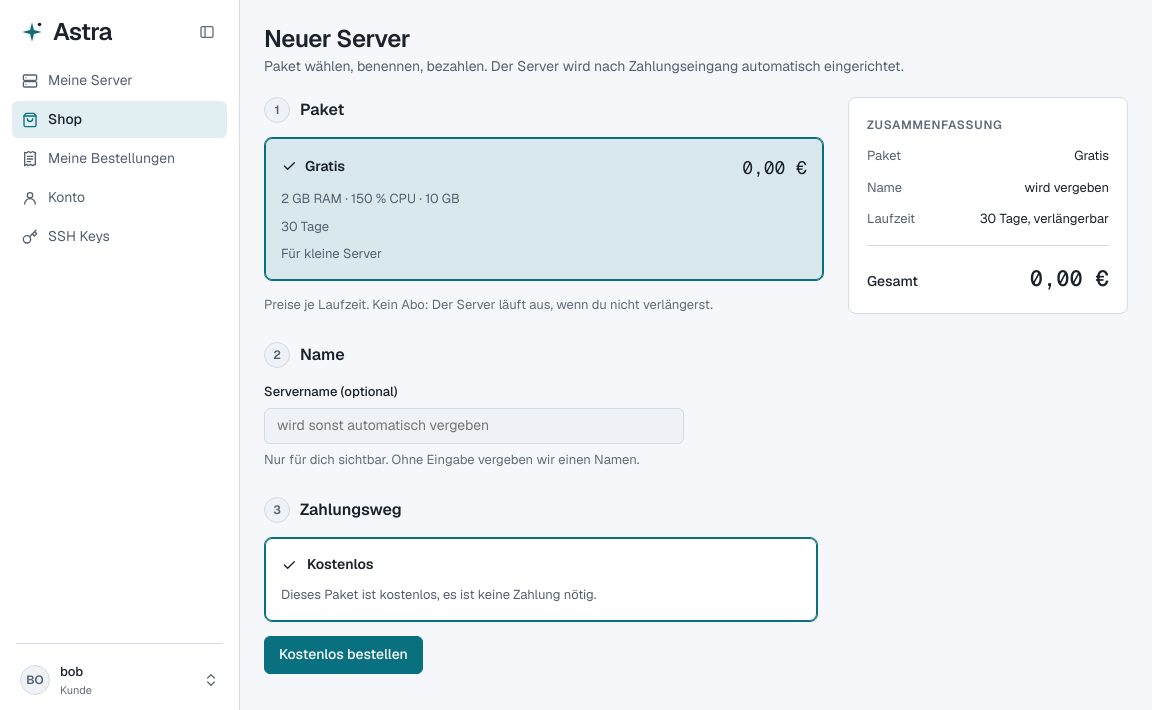
it: ShopPage › bietet kostenlose Pakete ohne Zahlungsschritt an und meldet die Bereitstellung
This screenshot has width=1152, height=710.
Expected: the text "Dieses Paket ist kostenlos, es ist keine Zahlung nötig." is shown, [281, 586, 596, 603]
Click the button "Kostenlos bestellen": [343, 654] box [264, 636, 423, 674]
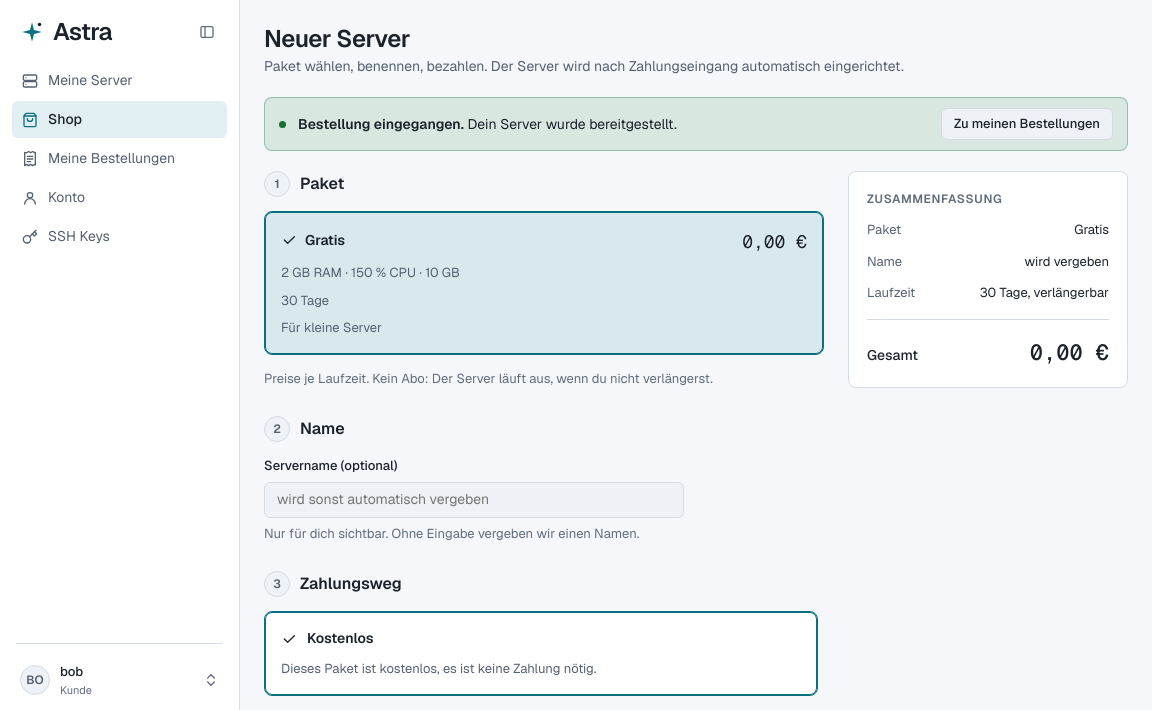
Expected: the text "Bestellung eingegangen. Dein Server wurde bereitgestellt." is shown, [298, 114, 677, 132]
